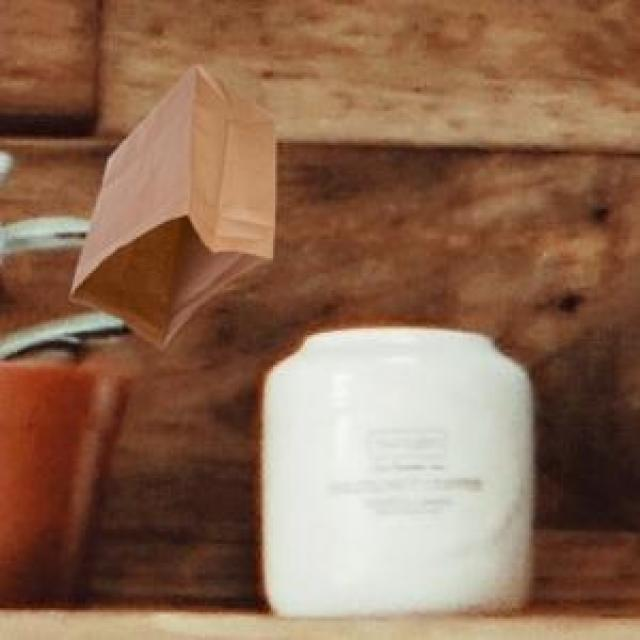paper: (66, 62, 271, 344)
